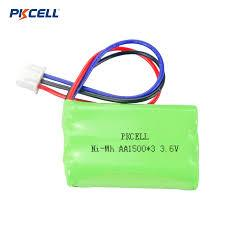battery: (63, 102, 200, 188)
electric wire: (21, 40, 175, 104)
